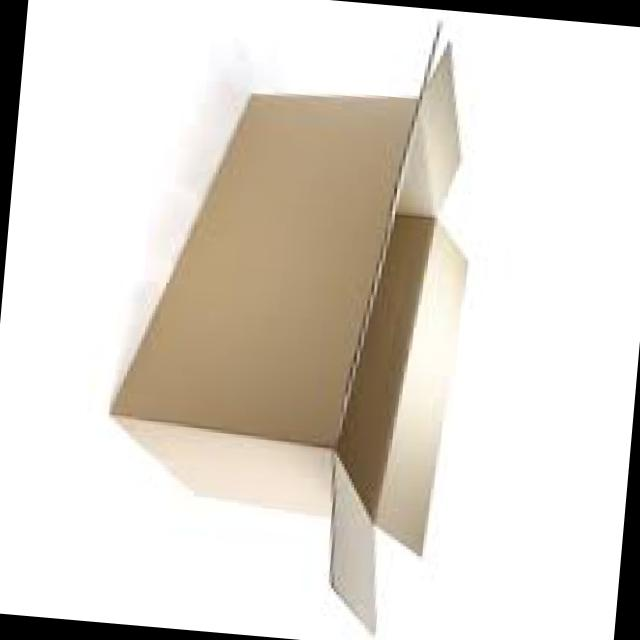cardboard: (112, 35, 464, 628)
